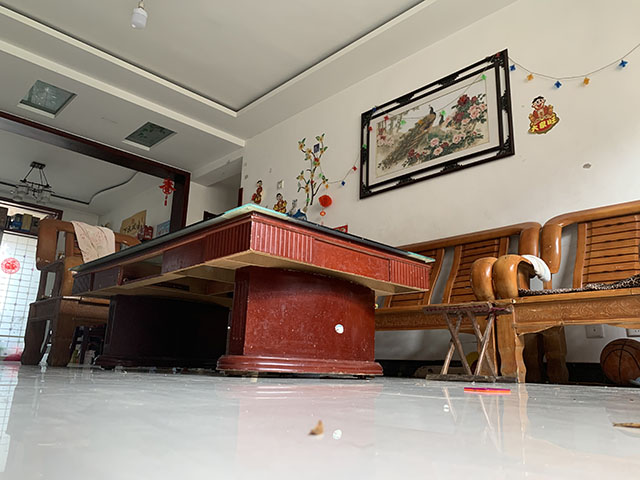sofa: (375, 200, 640, 385), (20, 216, 142, 368)
stool: (421, 302, 519, 385)
table: (72, 202, 436, 379)
